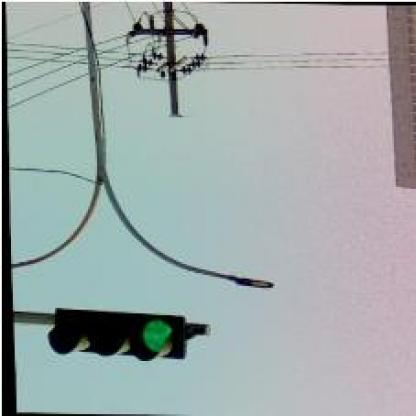green: (44, 314, 183, 360)
